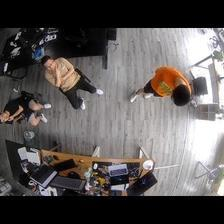normal: (43, 56, 104, 110), (131, 65, 189, 106), (1, 93, 50, 128)
